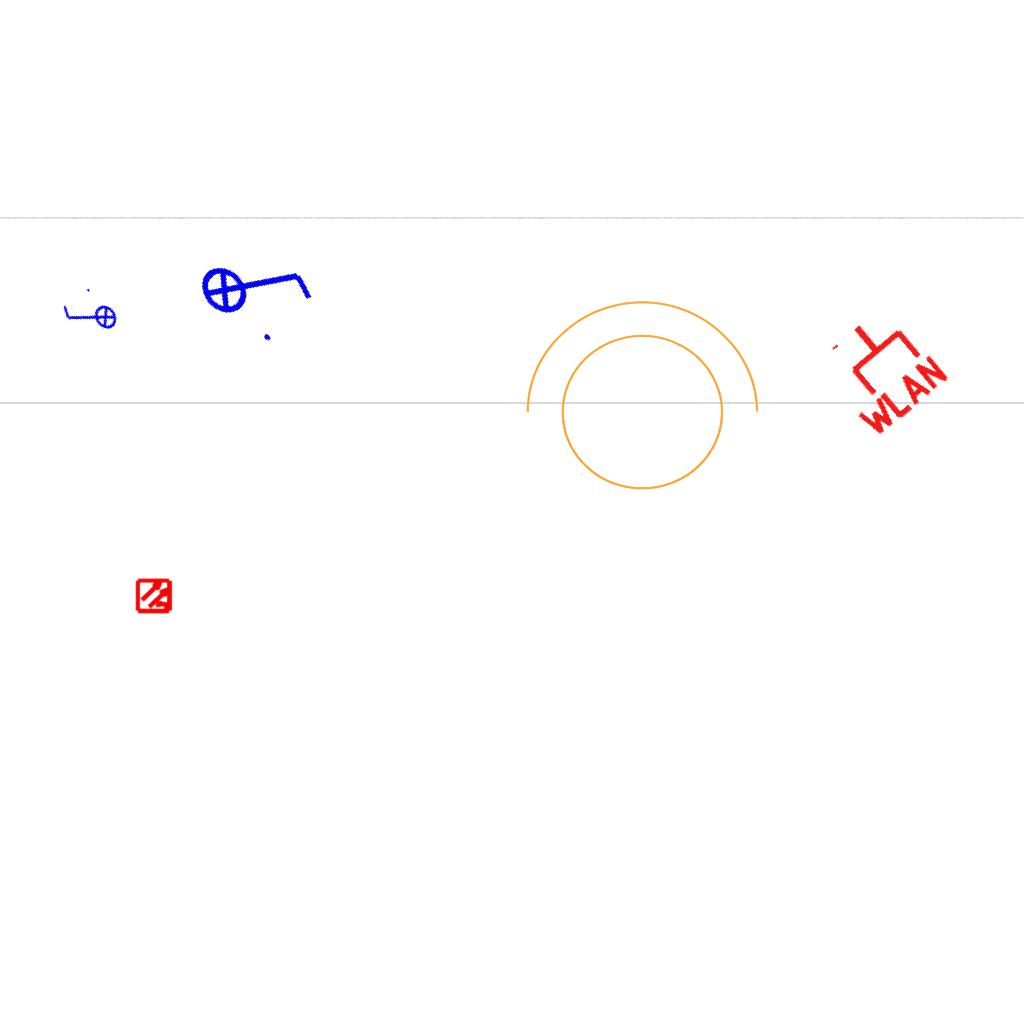Ausschalter_beleuchtet: (181, 211, 329, 359), (54, 280, 126, 354)
OT_Multisensormelder_(Kombination_RMO_WMD): (127, 568, 183, 624)
Scheinwerfer_fuer_Alarmbeleuchtung: (504, 290, 768, 515)
WLAN: (806, 296, 955, 444)
